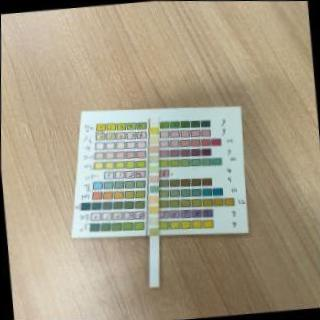mark: (148, 165, 158, 173), (148, 195, 158, 203), (148, 206, 158, 214), (148, 217, 158, 225), (149, 116, 159, 123), (148, 155, 158, 162), (148, 175, 158, 182), (148, 185, 158, 192), (149, 228, 159, 235), (150, 136, 158, 144), (149, 146, 159, 152), (150, 127, 158, 133)
